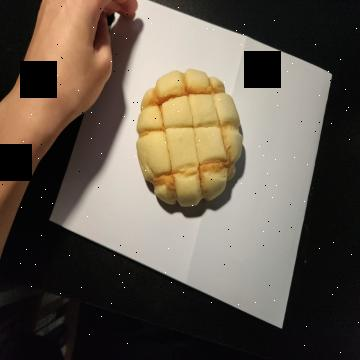melon_bread: (134, 68, 245, 209)
